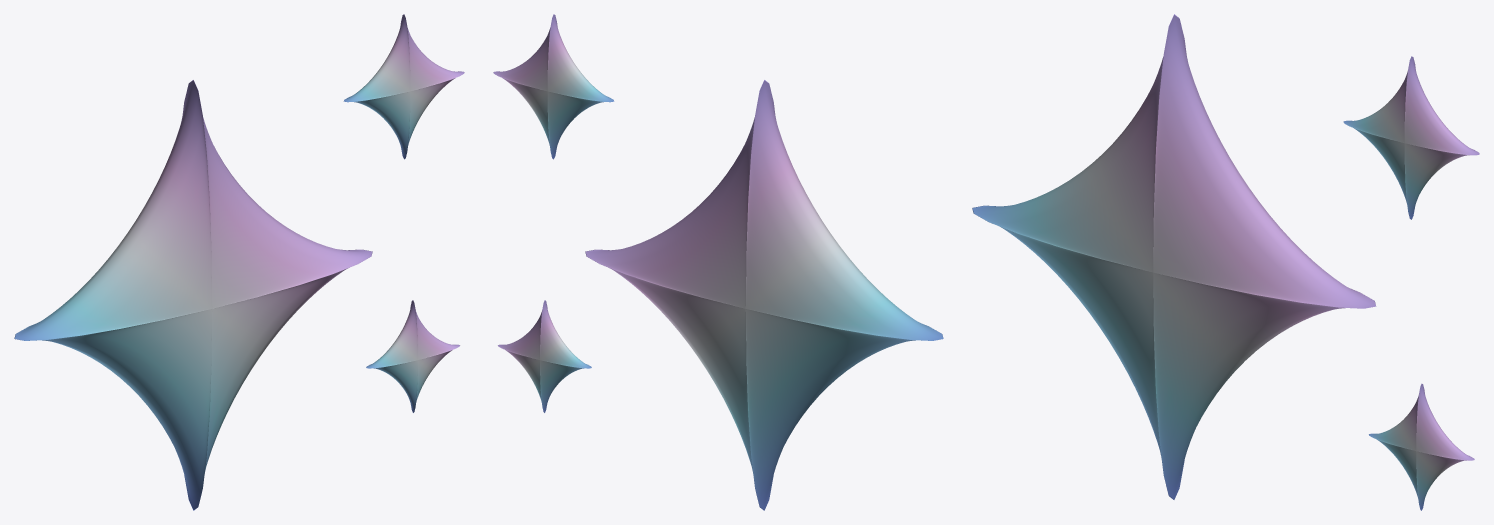
Rendered from content-icon.glb.
The picture shows the model from 3 angles, left to right: view 1: azimuth 30°, elevation 25°; view 2: azimuth 150°, elevation 25°; view 3: azimuth 330°, elevation 25°; orthographic projection. The views are drawn at different scales.
Visible parts, largest first — view 1: Content / main star.001, Content / upper satellite.001, Content / lower satellite.001; view 2: Content / main star.001, Content / upper satellite.001, Content / lower satellite.001; view 3: Content / main star.001, Content / upper satellite.001, Content / lower satellite.001.
Part boxes in pixels (x1,y1,x2,y2): Content / main star.001: (14,80,372,510); Content / upper satellite.001: (343,14,464,159); Content / lower satellite.001: (366,300,459,412); Content / main star.001: (585,80,943,510); Content / upper satellite.001: (493,14,614,159); Content / lower satellite.001: (498,300,591,412); Content / main star.001: (972,14,1376,499); Content / upper satellite.001: (1343,56,1479,219); Content / lower satellite.001: (1369,383,1474,510).
Size of the model in its own units: 2.01 by 1.9 by 0.288.
